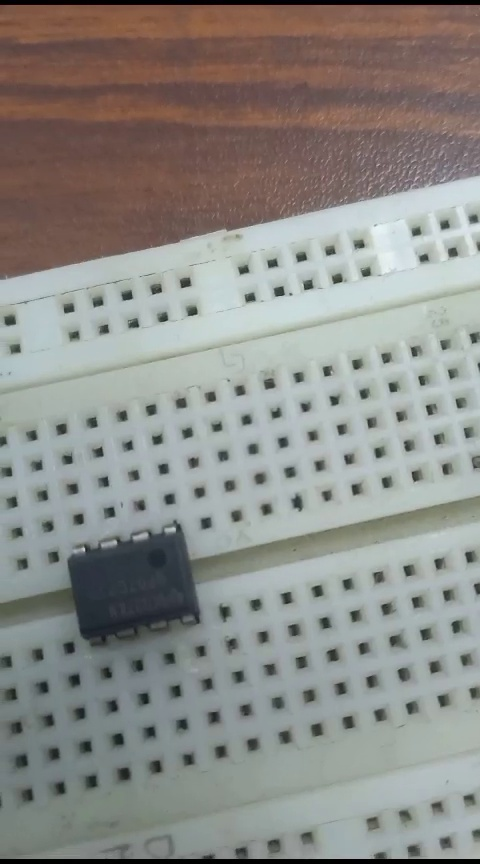IC: (56, 520, 203, 649)
